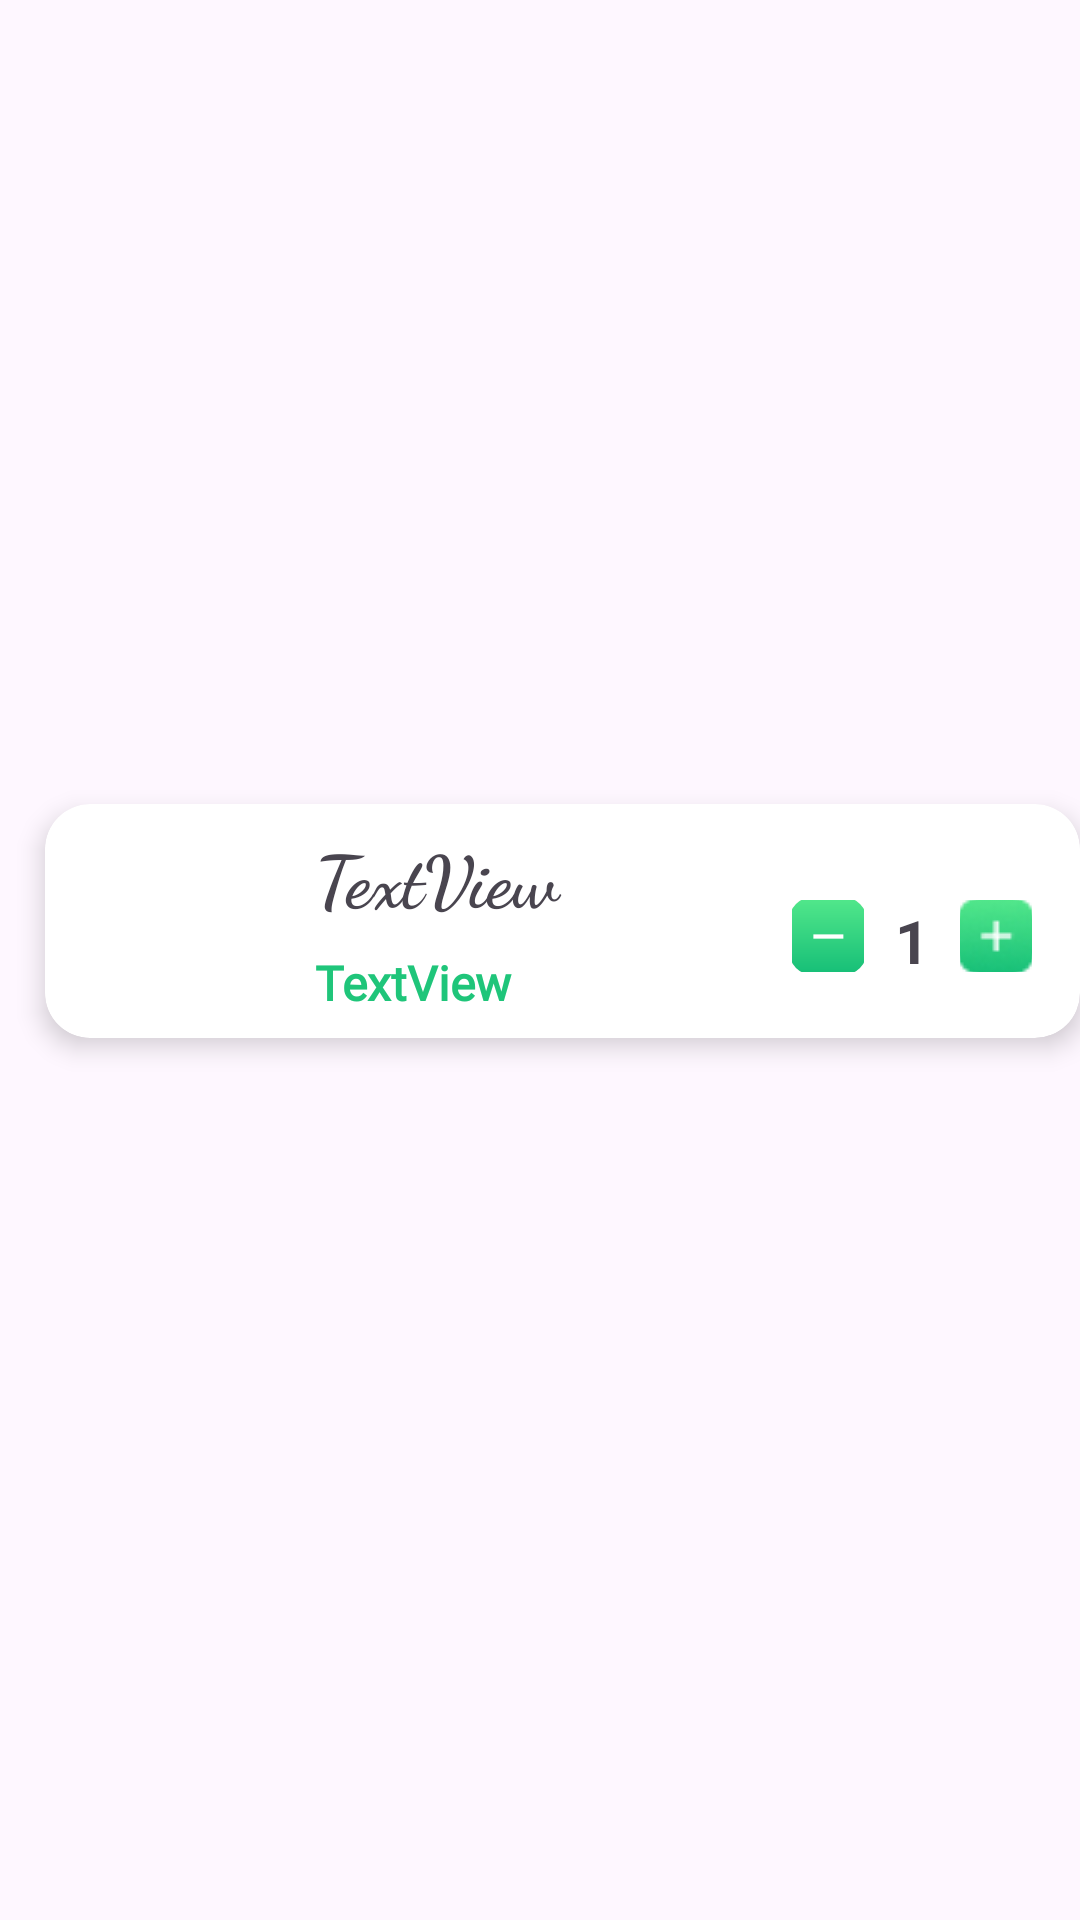

Locate icon controls on the screen. Image size 1080px×1920px, boxes as BBox(x1, y1, x2, y2).
iconplus: BBox(960, 900, 1032, 972)
minus: BBox(792, 900, 864, 972)
